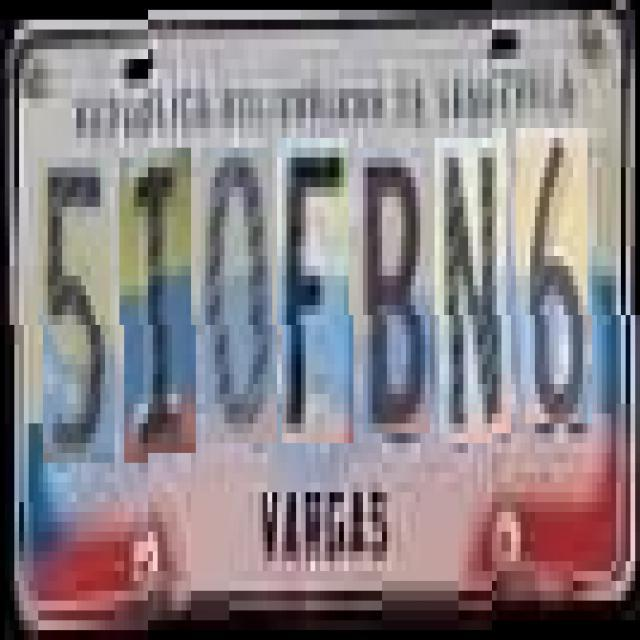5: (43, 148, 115, 453)
6: (520, 138, 592, 434)
B: (363, 148, 430, 434)
F: (282, 138, 354, 443)
I: (124, 148, 196, 453)
N: (439, 138, 511, 443)
O: (206, 148, 276, 444)
